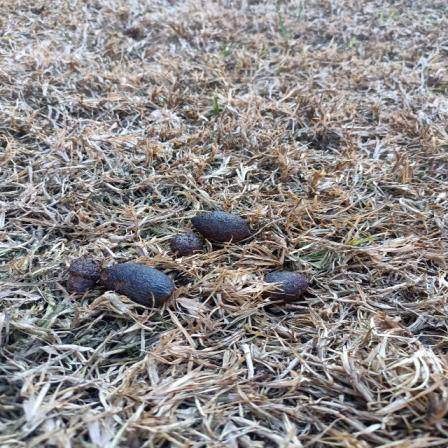dog-poop: (58, 250, 178, 320), (165, 201, 256, 256), (256, 267, 324, 305)
